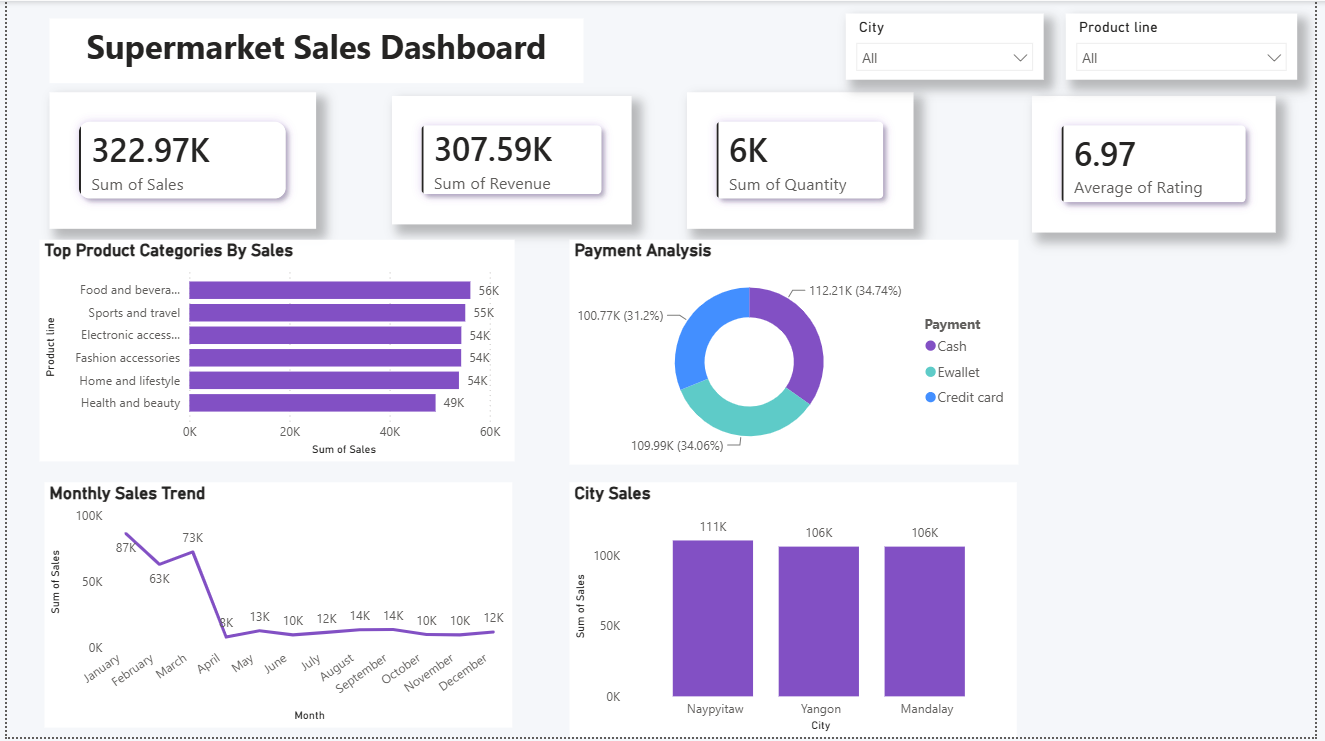

The dashboard page shown, as its layout file describes it:
{"tool":"powerbi","page":{"name":"Page 2","canvas":[1280,720],"ordinal":0},"visuals":[{"type":"cardVisual","title":"Sum of Sales","fields":{"Data":["Sum(SuperMarket Analysis.Sales)"]},"box":[41.6,89.3,260.5,133.3],"z":0},{"type":"cardVisual","fields":{"Data":["Sum(SuperMarket Analysis.Revenue)"]},"box":[376.6,92.9,234.8,126],"z":1000},{"type":"cardVisual","fields":{"Data":["Sum(SuperMarket Analysis.Quantity)"]},"box":[665.2,89.3,221.3,133.3],"z":2000},{"type":"cardVisual","fields":{"Data":["Avg(SuperMarket Analysis.Rating)"]},"box":[1002.7,92.9,238.5,133.3],"z":3000},{"type":"clusteredBarChart","title":"Top Product Categories By Sales","fields":{"Category":["SuperMarket Analysis.Product line"],"Y":["Sum(SuperMarket Analysis.Sales)"]},"box":[31.8,233.6,464.7,216.4],"z":4000},{"type":"columnChart","title":"City Sales","fields":{"Y":["Sum(SuperMarket Analysis.Sales)"],"Category":["SuperMarket Analysis.City"]},"box":[550.3,470.5,437.8,249.5],"z":5000},{"type":"donutChart","title":"Payment Analysis","fields":{"Category":["SuperMarket Analysis.Payment"],"Y":["Sum(SuperMarket Analysis.Sales)"]},"box":[550.3,233.6,439,220.1],"z":6000},{"type":"lineChart","title":"Monthly Sales Trend","fields":{"Category":["SuperMarket Analysis.Date.Variation.Date Hierarchy.Month"],"Y":["Sum(SuperMarket Analysis.Sales)"]},"box":[36.7,470.8,457.3,239.7],"z":7000},{"type":"slicer","fields":{"Values":["SuperMarket Analysis.City"]},"box":[820.5,12.2,193.2,64.8],"z":8000},{"type":"slicer","fields":{"Values":["SuperMarket Analysis.Product line"]},"box":[1035.7,12.2,226.2,64.8],"z":9000},{"type":"textbox","box":[41.6,17.1,522.1,63.6],"z":10000}]}

Visuals, with their boxes in screenshot pixels (x1, y1, x2, y2), scaled from the page's 1280x720 canvas onto the 1325x741 screenshot:
"Sum of Sales" cardVisual: bbox=(43, 92, 313, 229)
cardVisual - Sum(SuperMarket Analysis.Revenue): bbox=(390, 96, 633, 225)
cardVisual - Sum(SuperMarket Analysis.Quantity): bbox=(689, 92, 918, 229)
cardVisual - Avg(SuperMarket Analysis.Rating): bbox=(1038, 96, 1285, 233)
"Top Product Categories By Sales" clusteredBarChart: bbox=(33, 240, 514, 463)
"City Sales" columnChart: bbox=(570, 484, 1023, 740)
"Payment Analysis" donutChart: bbox=(570, 240, 1024, 467)
"Monthly Sales Trend" lineChart: bbox=(38, 485, 511, 731)
slicer - SuperMarket Analysis.City: bbox=(849, 13, 1049, 79)
slicer - SuperMarket Analysis.Product line: bbox=(1072, 13, 1306, 79)
textbox: bbox=(43, 18, 584, 83)
